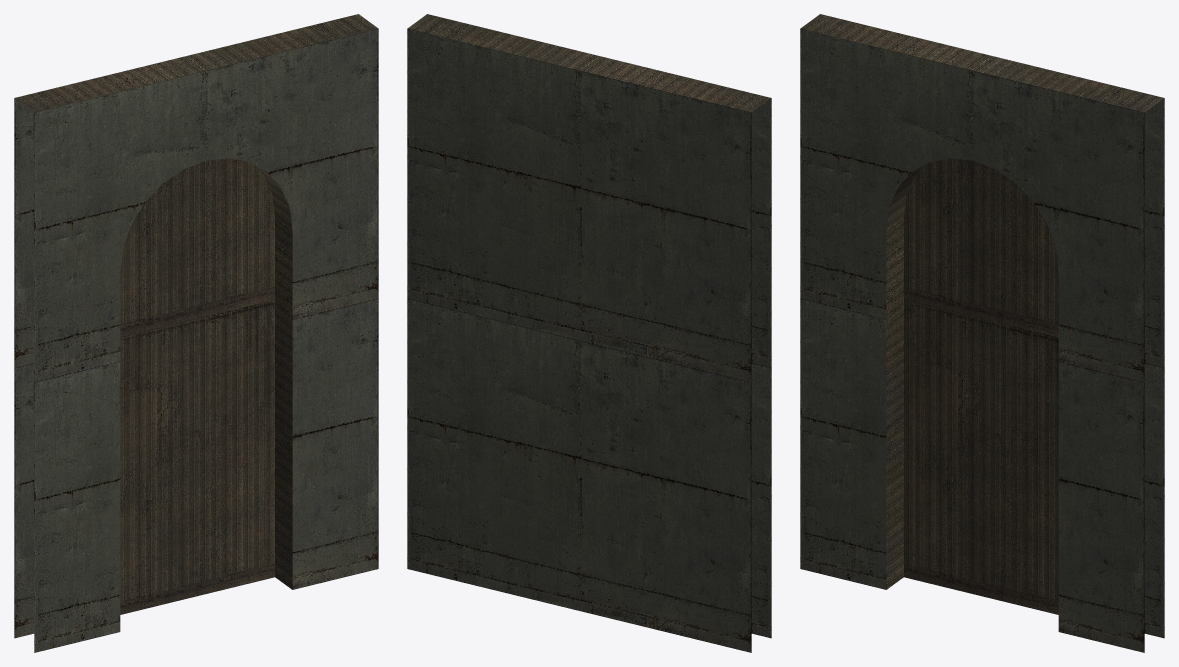
File: wall_rg_15_double.glb
3 views of the same model, side by side, from view 1: azimuth 30°, elevation 25°; view 2: azimuth 150°, elevation 25°; view 3: azimuth 330°, elevation 25° (orthographic).
Parts seen in each view (by area): view 1: wall_rg_15_double; view 2: wall_rg_15_double; view 3: wall_rg_15_double.
Boxes of the visible parts, x1,y1,x2,y2 form: wall_rg_15_double: (14,14,378,652); wall_rg_15_double: (407,14,771,652); wall_rg_15_double: (800,14,1164,652).
Bounding box in the file's own units: 4 × 6 × 0.4.
2 materials, 2 textured.
